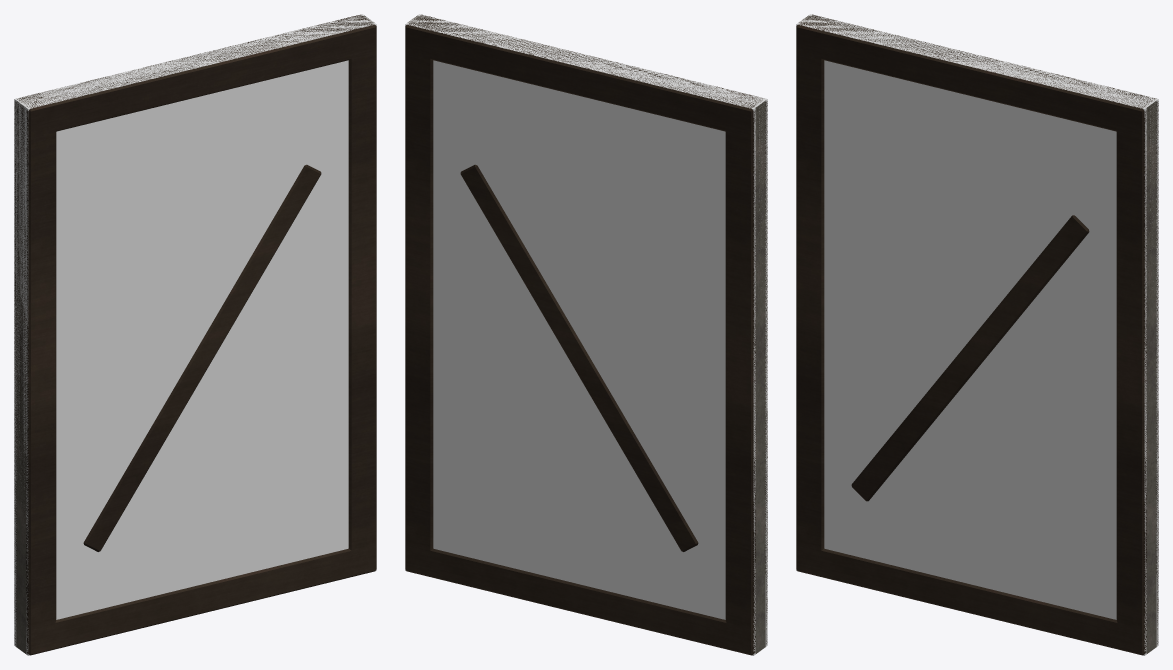
The model's file is ak_wall_interior_2x3.glb.
3 views of the same model, side by side, from view 1: azimuth 30°, elevation 25°; view 2: azimuth 150°, elevation 25°; view 3: azimuth 330°, elevation 25° (orthographic).
Visible parts, largest first — view 1: col_wall, frame, wall; view 2: col_wall, frame, wall; view 3: col_wall, frame, wall.
Part boxes in pixels (x1,y1,x2,y2): col_wall: (14, 14, 376, 655); frame: (14, 14, 376, 655); wall: (16, 15, 374, 653); col_wall: (405, 14, 767, 655); frame: (405, 14, 767, 655); wall: (407, 15, 765, 653); col_wall: (796, 14, 1158, 655); frame: (796, 14, 1158, 655); wall: (798, 15, 1156, 653).
Bounding box in the file's own units: 2 × 3 × 0.16.
2 materials, 2 textured.
